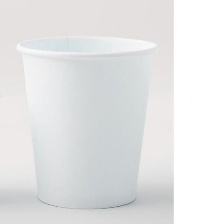paper_cup: (9, 29, 162, 213)
